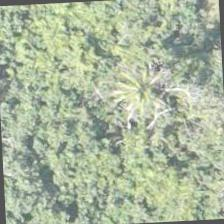Kelapa_Sawit: (108, 41, 202, 136)
